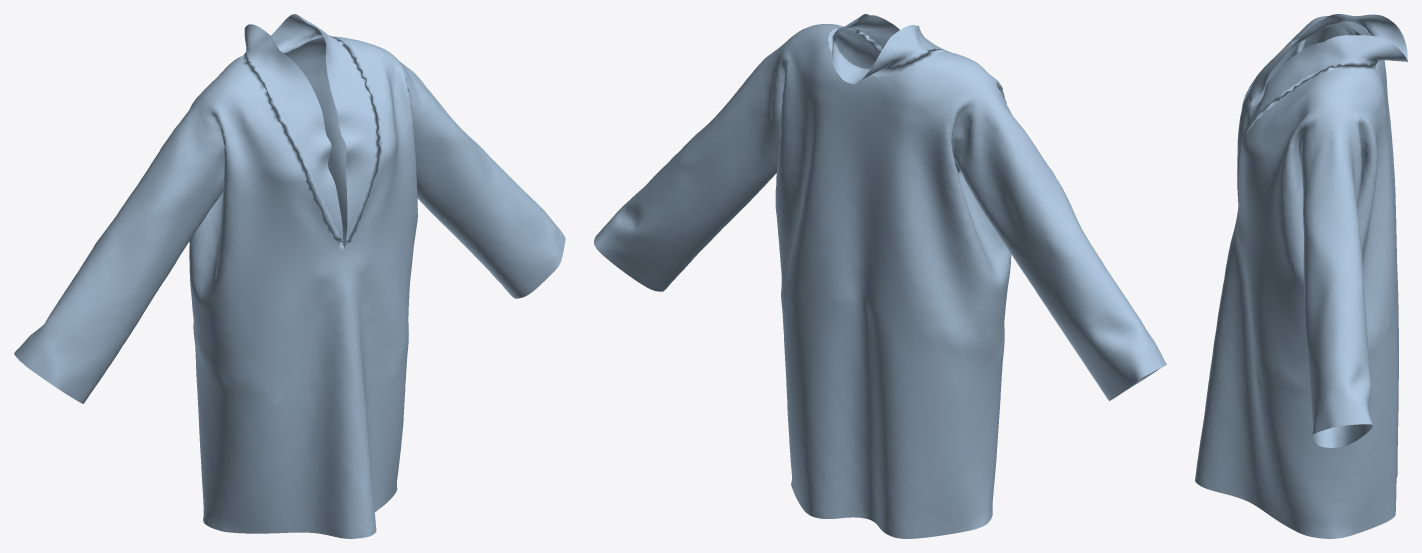
File: coat_XXL.glb
The picture shows the model from 3 angles, left to right: view 1: azimuth 30°, elevation 25°; view 2: azimuth 150°, elevation 25°; view 3: azimuth 270°, elevation 25°; orthographic projection. The views are drawn at different scales.
Parts seen in each view (by area): view 1: geometry_0; view 2: geometry_0; view 3: geometry_0.
Part boxes in pixels (box(x1,y1,x2,y2)): geometry_0: box(14, 14, 565, 538); geometry_0: box(594, 14, 1166, 538); geometry_0: box(1195, 14, 1407, 538).
Size of the model in its own units: 1.27 by 1.05 by 0.4303.
